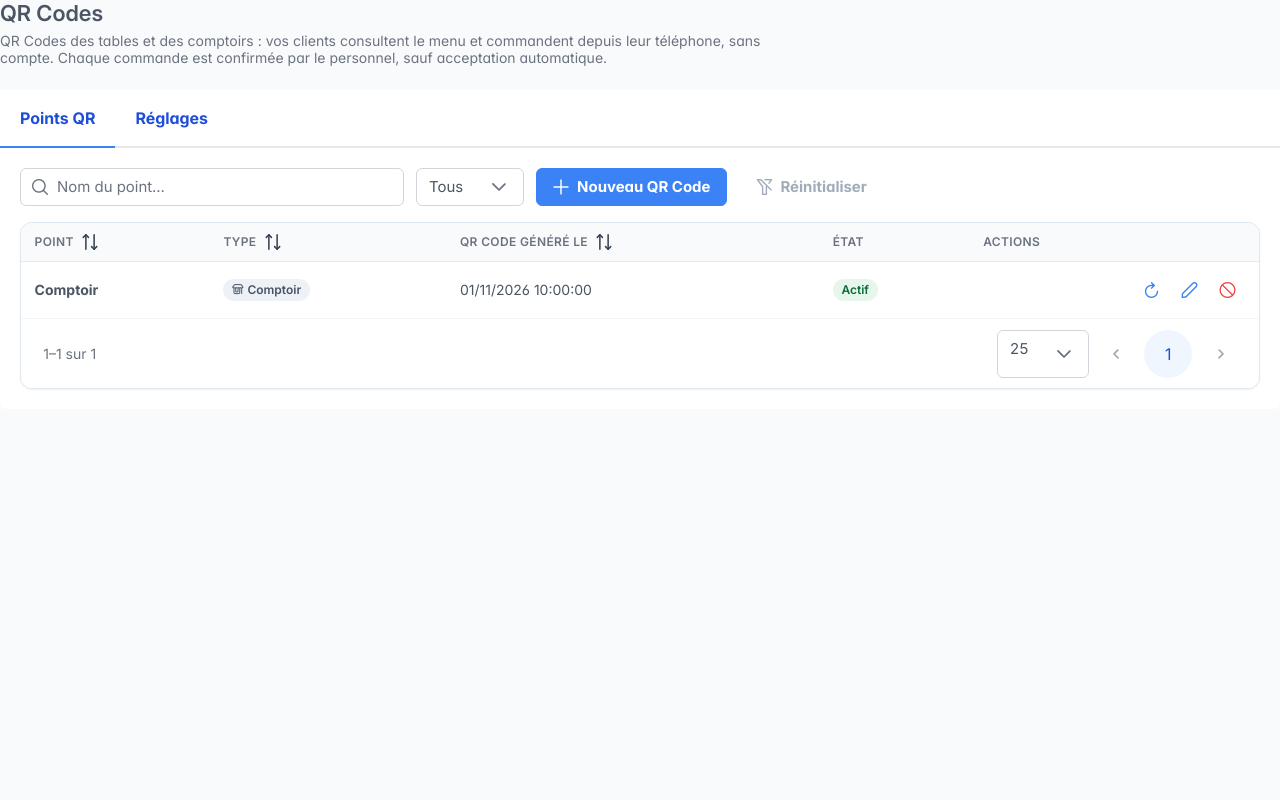
Scenario: administration des points QR (R7-A) › régénération : confirmation explicite de l’invalidation des QR imprimés
Click the button named "Régénérer": [1151, 290] box [1133, 272, 1169, 308]
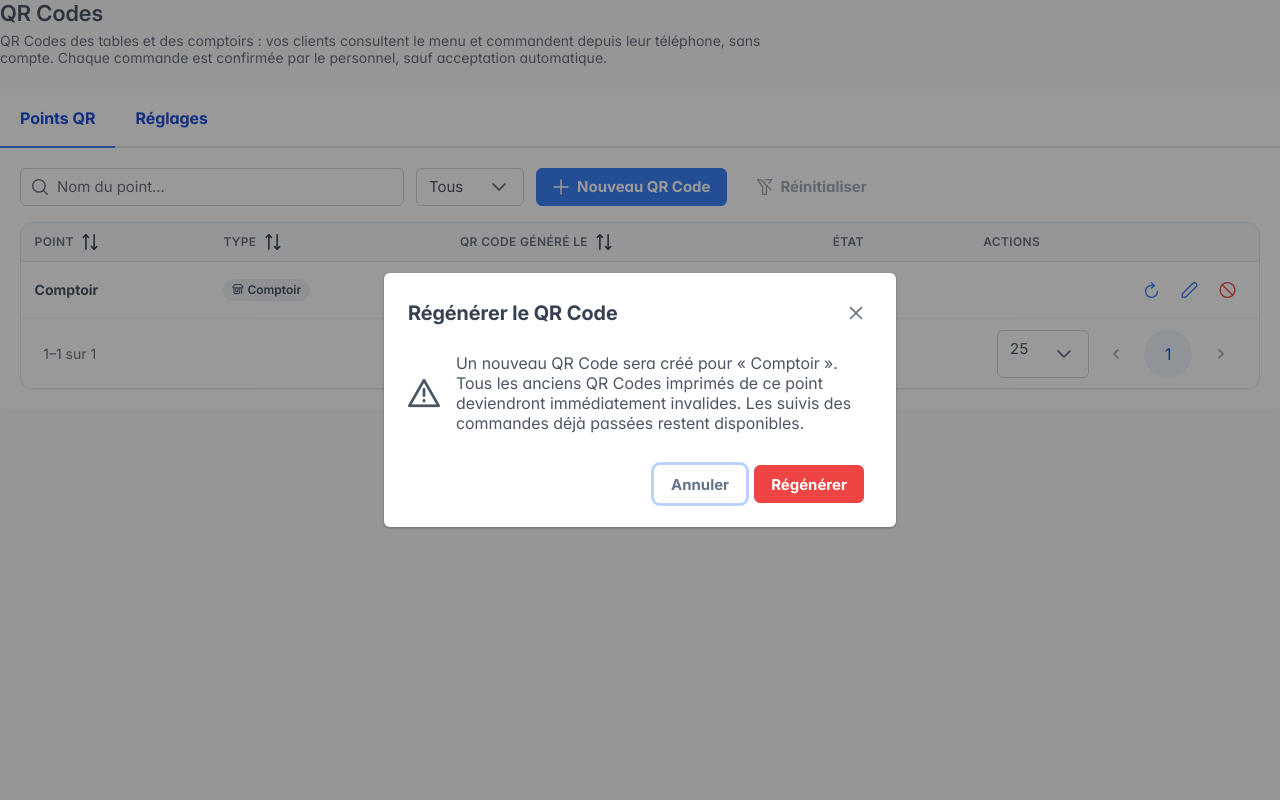
Expected: the text "anciens QR Codes imprimés de ce point deviendront immédiatement invalides" is shown, [456, 353, 851, 433]
